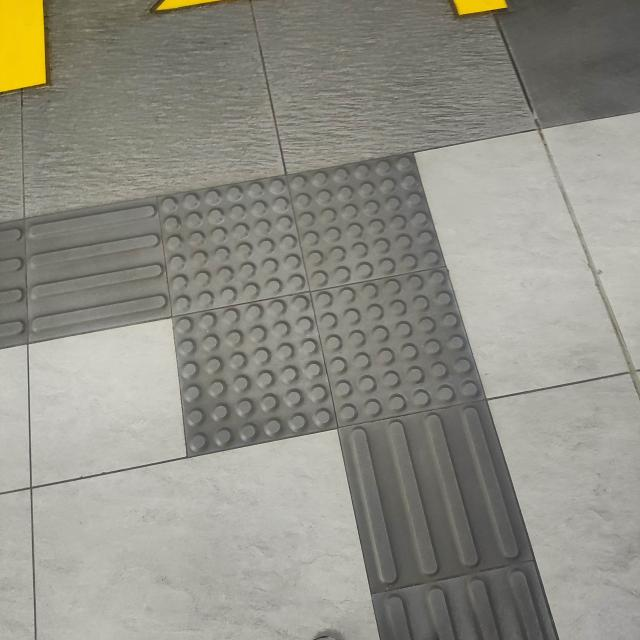kiri: (0, 124, 558, 521)
